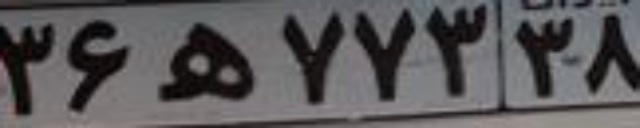3: (423, 3, 491, 96), (510, 16, 574, 99), (0, 22, 56, 115)
6: (65, 19, 129, 113)
7: (278, 9, 346, 105), (353, 6, 415, 101)
8: (578, 13, 638, 92)
he: (158, 20, 259, 101)
